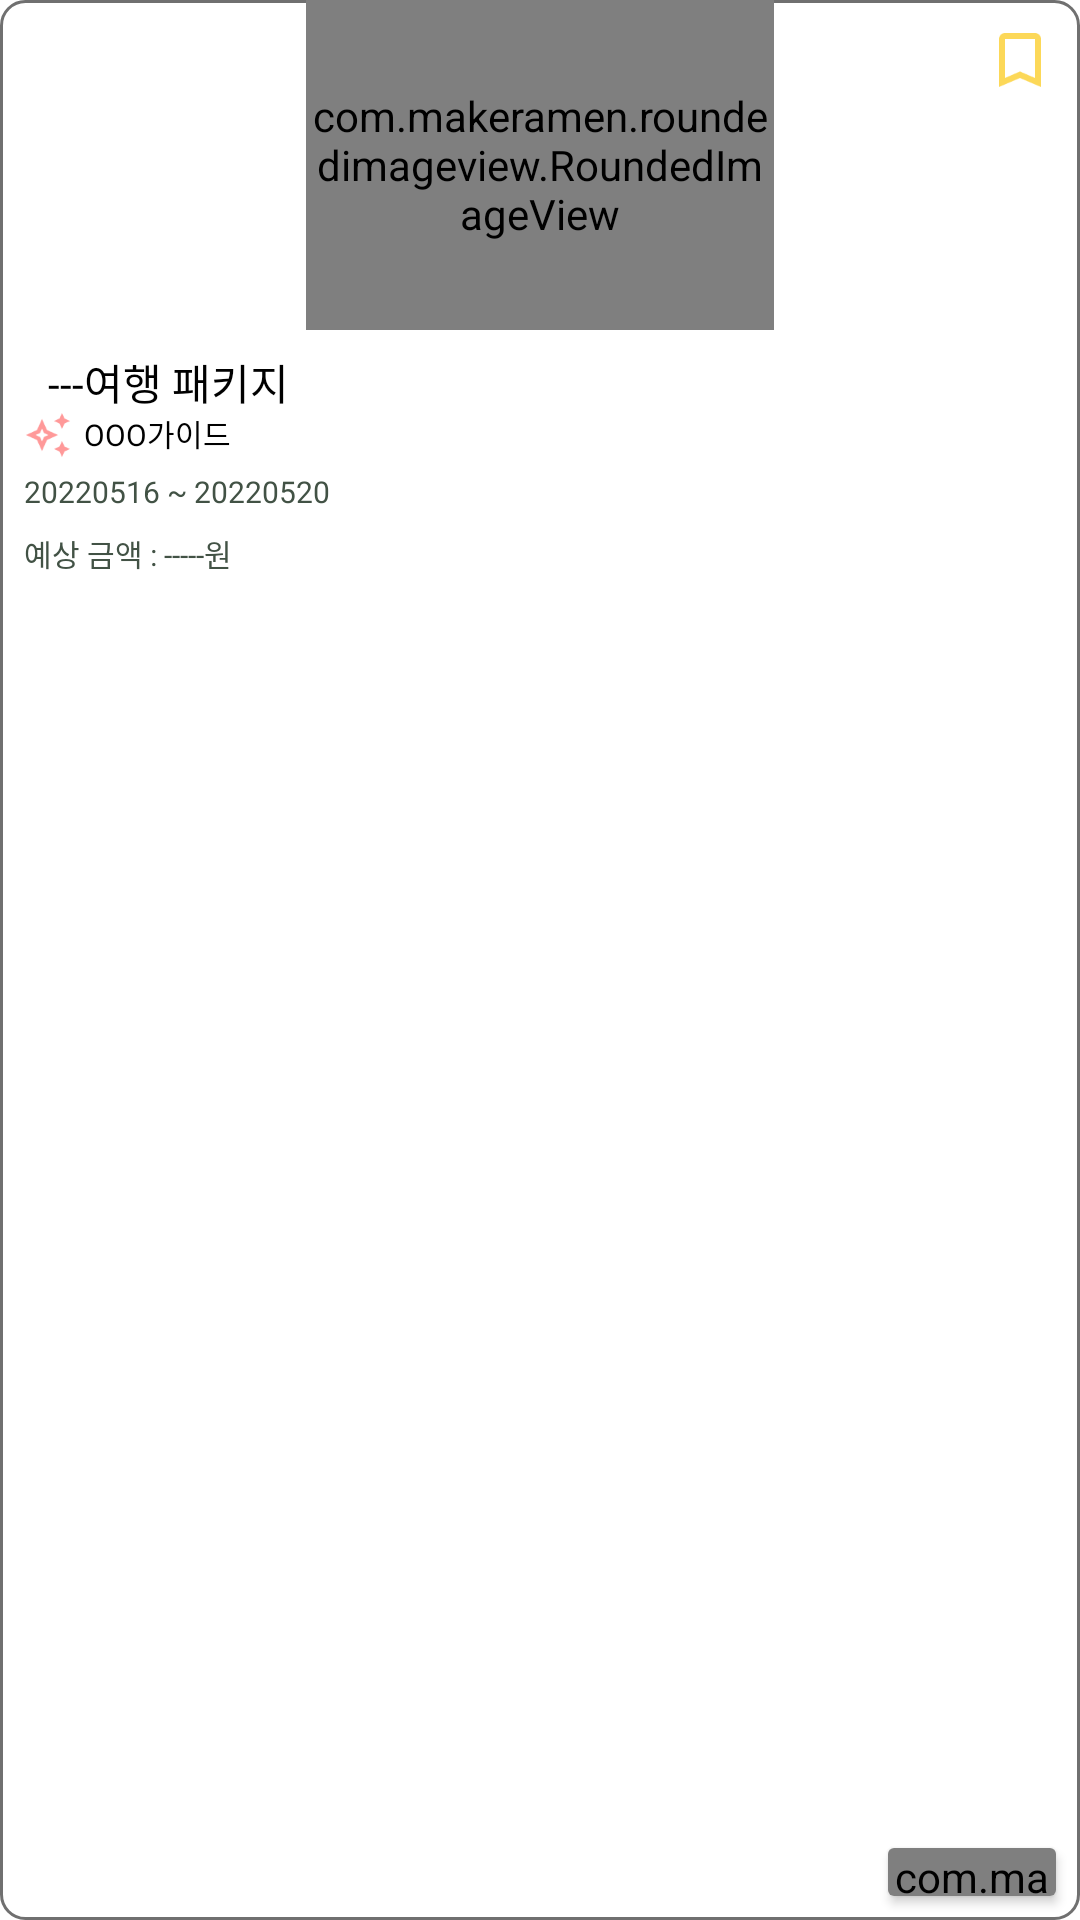

Screen size 1080px x 1920px. Icon name, then its center in pixels as (x,y):
bookmark empty: (1020,60)
